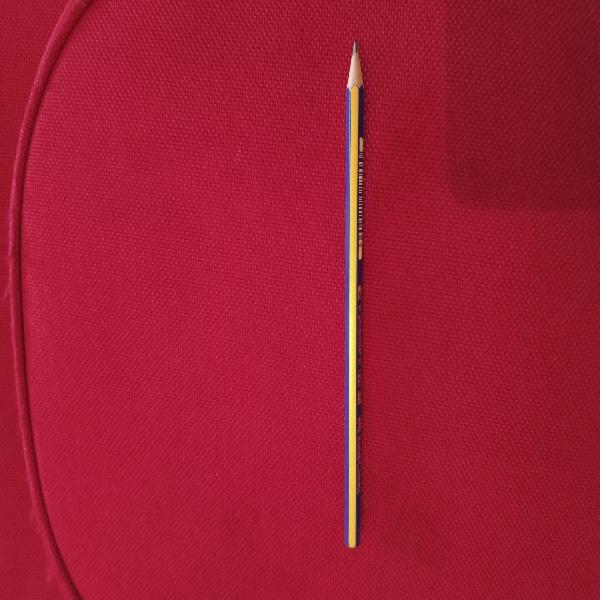pencil: (344, 42, 364, 547)
